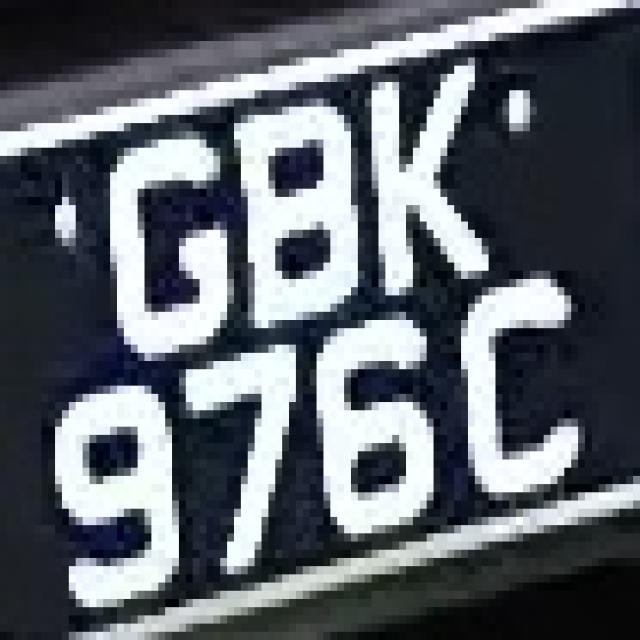6: (296, 295, 447, 558)
7: (152, 336, 316, 574)
9: (13, 377, 200, 632)
B: (220, 82, 372, 353)
C: (434, 287, 598, 509)
G: (55, 123, 241, 378)
K: (351, 41, 516, 304)
